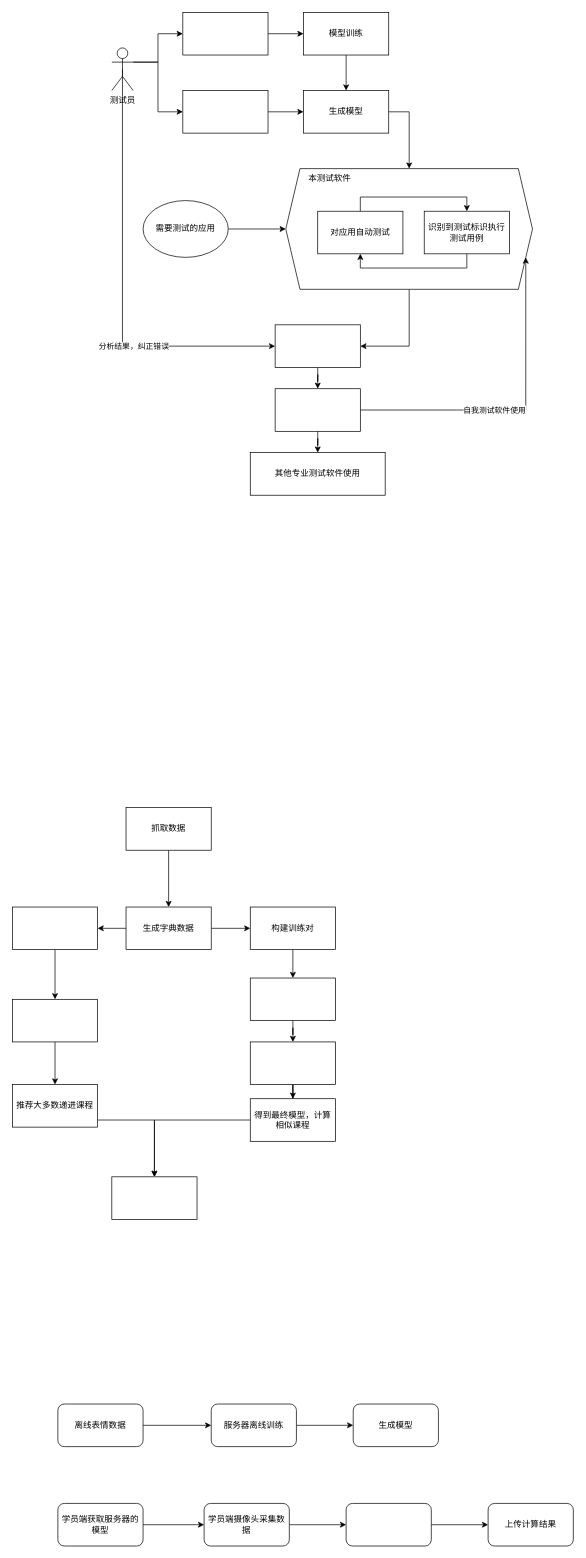
The diagram is 586 pixels wide and 1558 high, and some of its shapes have lost their labels. Each missing label, with the centre of its shape:
"导出用例" goes at point (317, 409).
"开始训练" goes at point (292, 1063).
"构建skipGram网络结构" goes at point (292, 999).
"构建课程递进关系" goes at point (55, 928).
"测试标识标注" goes at point (225, 33).
"测试标识的测试用例" goes at point (225, 111).
"测试结果" goes at point (317, 345).
"统计数据" goes at point (55, 1020).
"综合最终推荐" goes at point (154, 1197).
"计算当前的表情数据" goes at point (388, 1524).
